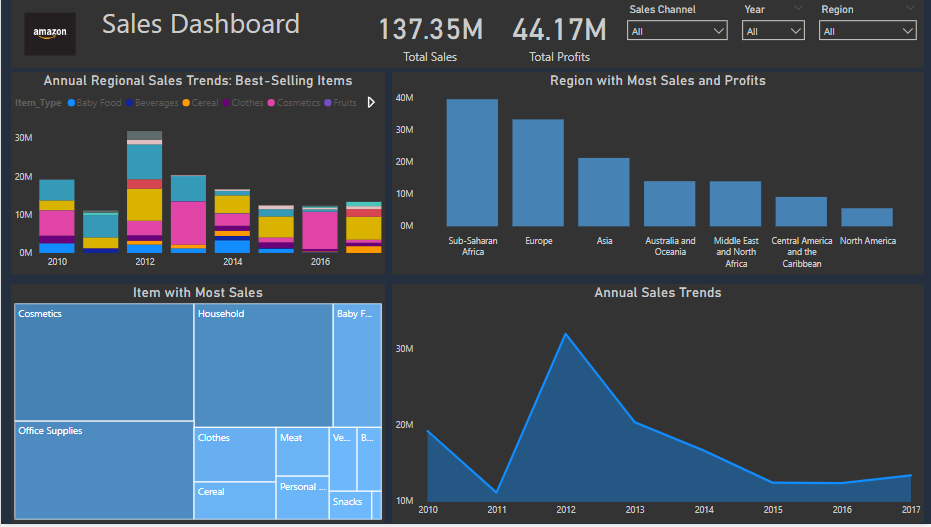

What the dashboard file says about the page in this screenshot:
{"tool":"powerbi","page":{"name":"Page 1","canvas":[1280,720],"ordinal":0},"visuals":[{"type":"clusteredColumnChart","title":"Region with Most Sales and Profits","fields":{"Category":["AmazonAnalysis.Region"],"Y":["Sum(AmazonAnalysis.Total_Revenue)"]},"box":[538.2,99.1,732.2,279.4],"z":0},{"type":"card","fields":{"Values":["AmazonAnalysis.Total Sales"]},"box":[495.5,0,189.9,93.6],"z":1000},{"type":"card","fields":{"Values":["AmazonAnalysis.Total Profits"]},"box":[685.4,0,166.5,93.6],"z":2000},{"type":"treemap","title":"Item with Most Sales and Profit","fields":{"Values":["Sum(AmazonAnalysis.Total_Revenue)"],"Group":["AmazonAnalysis.Item_Type"]},"box":[13.8,390.9,514.8,328.9],"z":3000},{"type":"areaChart","title":"Annual Sales Trends","fields":{"Category":["AmazonAnalysis.Order_Date.Variation.Date Hierarchy.Year"],"Y":["Sum(AmazonAnalysis.Total_Revenue)"]},"box":[538.2,390.9,732.2,328.9],"z":4000},{"type":"columnChart","title":"Annual Regional Sales Trends: Best-Selling Items","fields":{"Category":["AmazonAnalysis.Order_Date.Variation.Date Hierarchy.Year"],"Y":["Sum(AmazonAnalysis.Total_Revenue)"],"Series":["AmazonAnalysis.Item_Type"]},"box":[13.8,99.1,514.8,279.4],"z":5000},{"type":"textbox","box":[13.8,0,481.7,93.6],"z":6000},{"type":"slicer","fields":{"Values":["AmazonAnalysis.Order_Date.Variation.Date Hierarchy.Year"]},"box":[1010.2,0,106,93.6],"z":7000},{"type":"slicer","fields":{"Values":["AmazonAnalysis.Sales_Channel"]},"box":[852,0,158.3,93.6],"z":8000},{"type":"slicer","fields":{"Values":["AmazonAnalysis.Region"]},"box":[1116.2,0,154.2,93.6],"z":9000},{"type":"image","box":[24.8,12.4,85.3,68.8],"z":10000}]}

Visuals, with their boxes in screenshot pixels (x1, y1, x2, y2), scaled from the page's 1280x720 canvas onto the 931x527 screenshot:
"Region with Most Sales and Profits" clusteredColumnChart: x1=391 y1=73 x2=924 y2=277
card - AmazonAnalysis.Total Sales: x1=360 y1=0 x2=499 y2=69
card - AmazonAnalysis.Total Profits: x1=499 y1=0 x2=620 y2=69
"Item with Most Sales and Profit" treemap: x1=10 y1=286 x2=384 y2=526
"Annual Sales Trends" areaChart: x1=391 y1=286 x2=924 y2=526
"Annual Regional Sales Trends: Best-Selling Items" columnChart: x1=10 y1=73 x2=384 y2=277
textbox: x1=10 y1=0 x2=360 y2=69
slicer - AmazonAnalysis.Order_Date.Variation.Date Hierarchy.Year: x1=735 y1=0 x2=812 y2=69
slicer - AmazonAnalysis.Sales_Channel: x1=620 y1=0 x2=735 y2=69
slicer - AmazonAnalysis.Region: x1=812 y1=0 x2=924 y2=69
image: x1=18 y1=9 x2=80 y2=59
